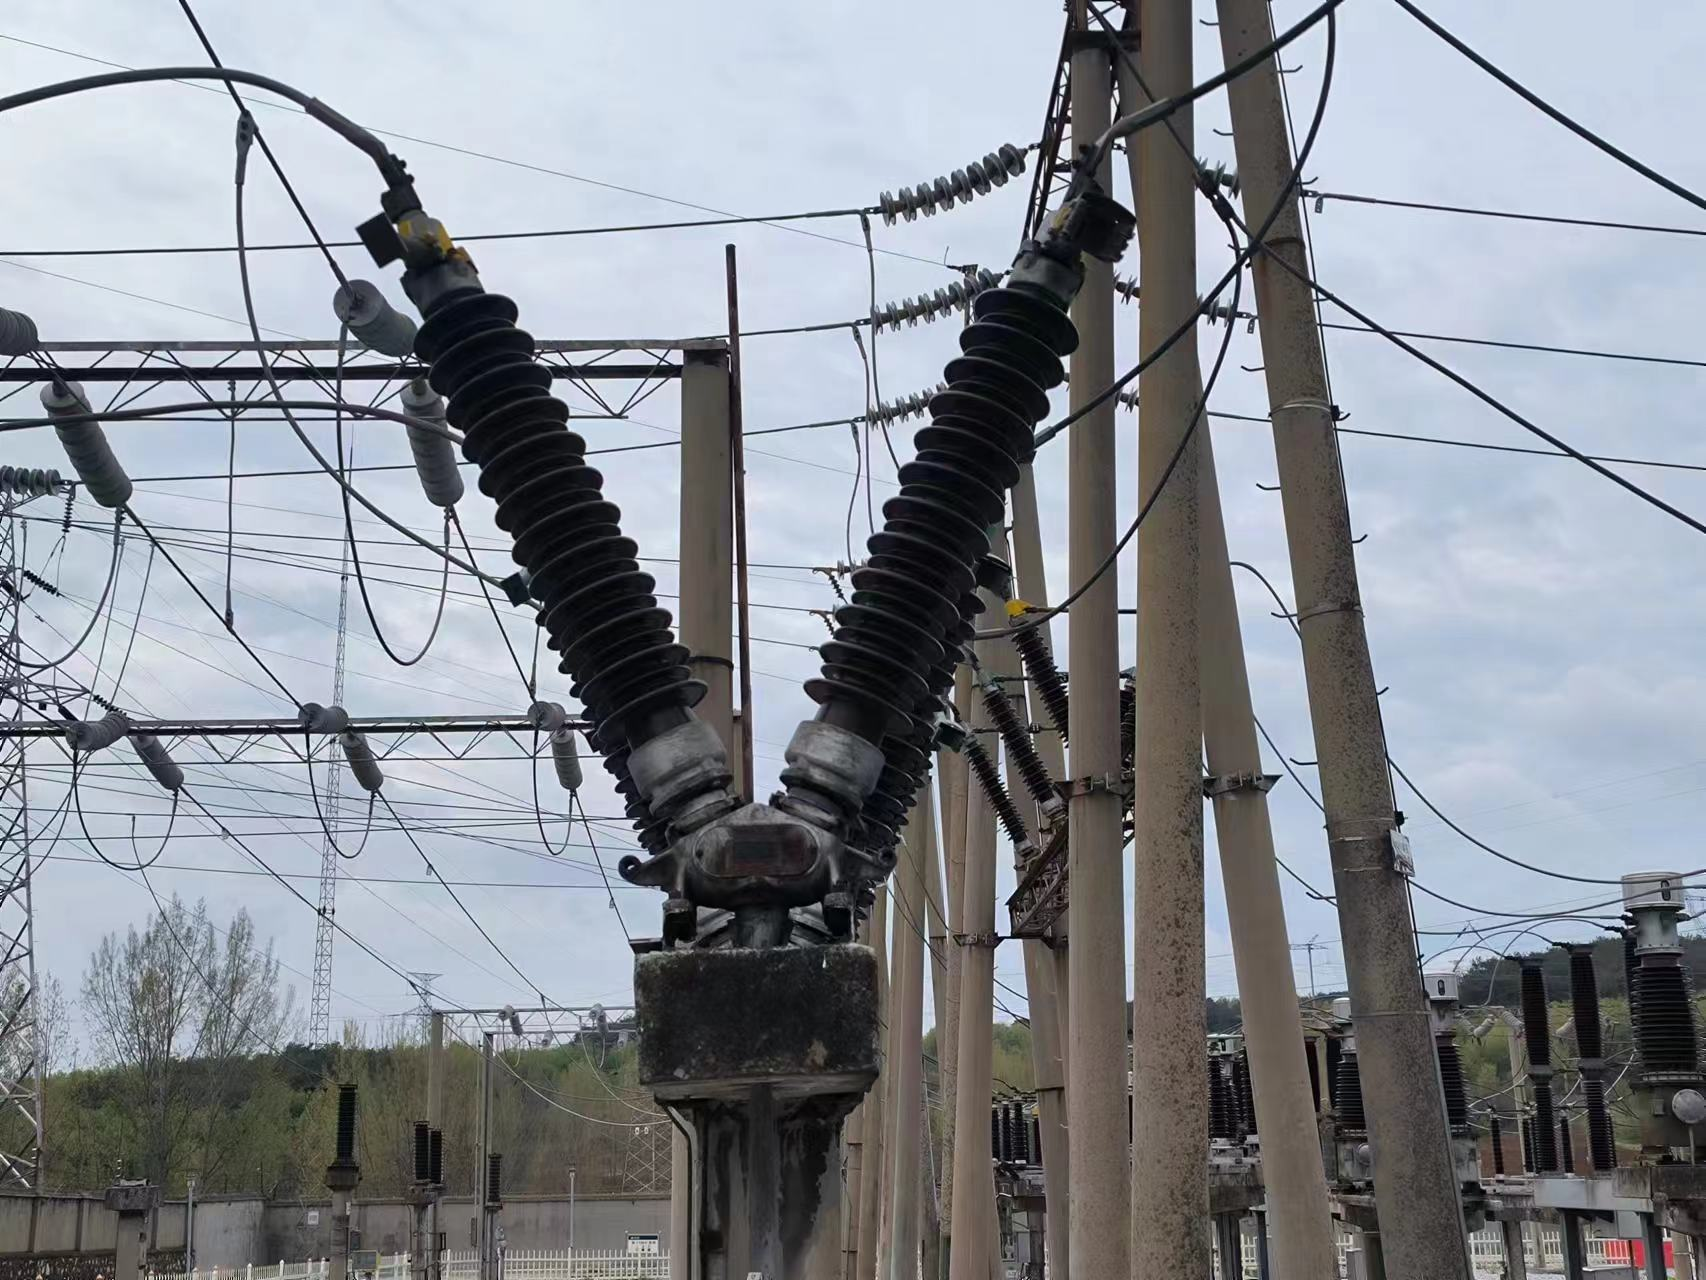Isolating switch: (352, 108, 1151, 947)
